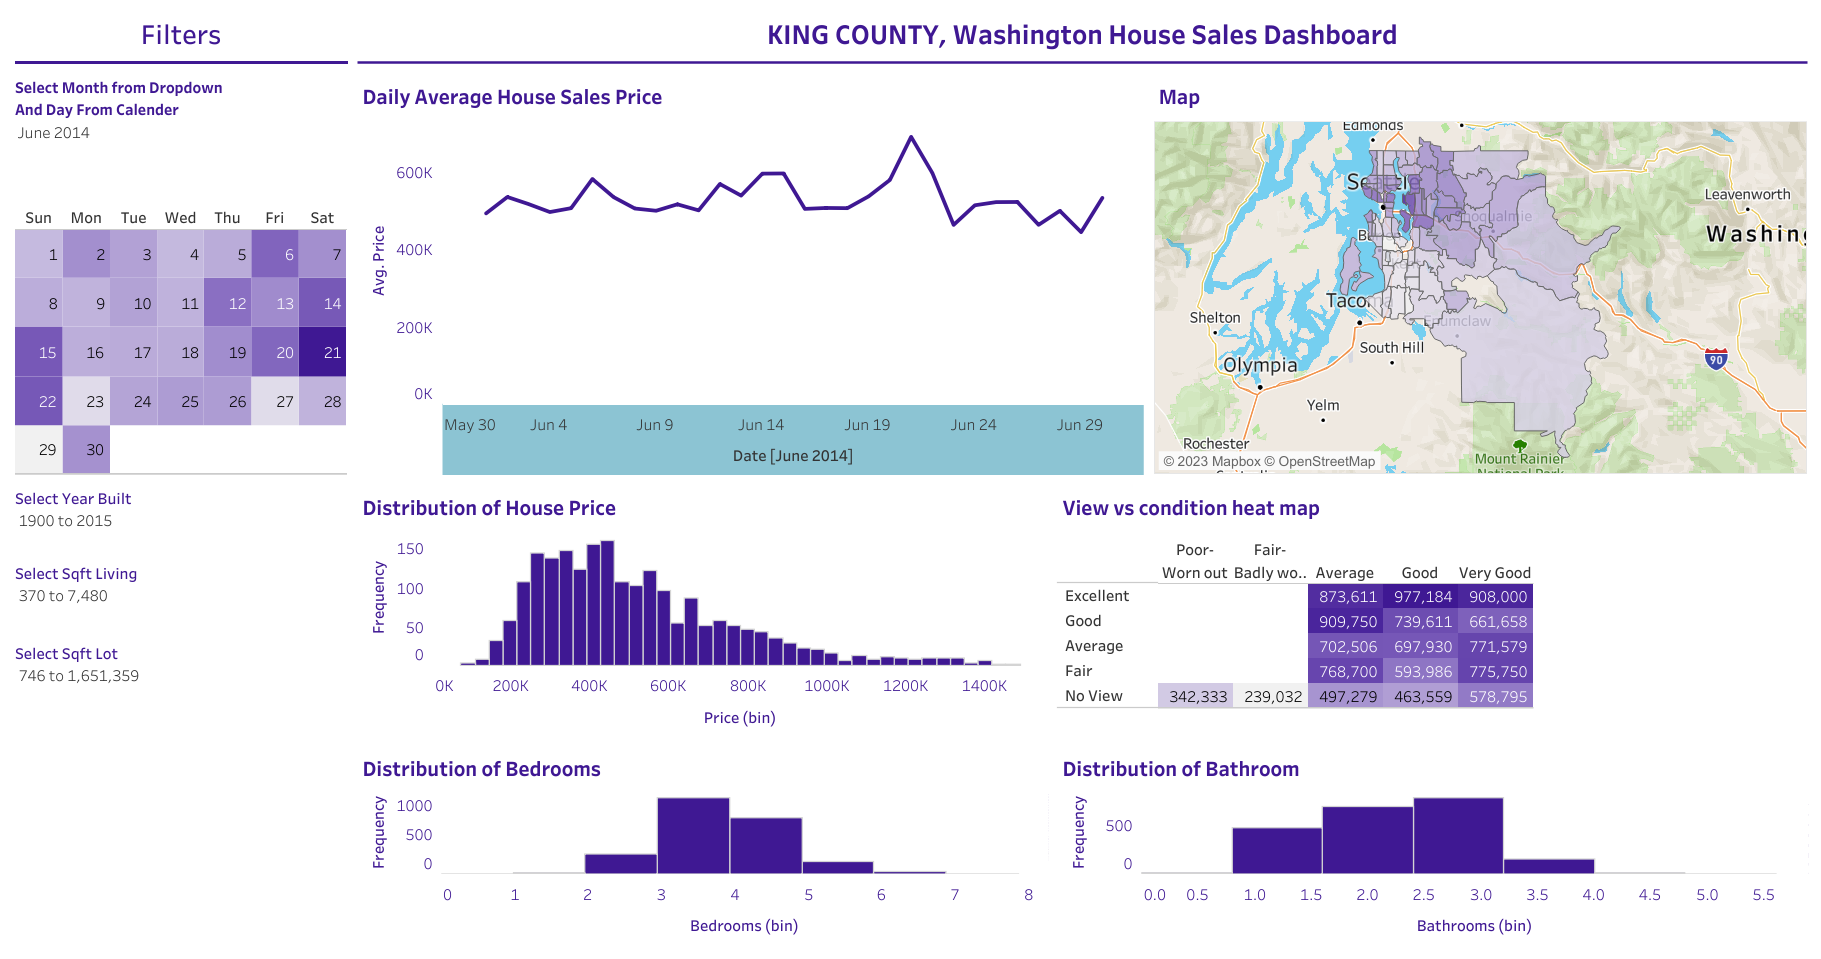

The dashboard page shown, as its layout file describes it:
{"tool":"tableau","page":{"name":"KING COUNTY, House Sales ","canvas":[1000,1000],"units":"permille","ordinal":0},"visuals":[{"type":"text","box":[5.9,10.4,187.9,48.2]},{"type":"text","box":[193.7,10.4,800.4,48.2]},{"type":"blank","box":[5.9,58.6,187.9,13]},{"type":"blank","box":[193.7,58.6,800.4,13]},{"type":"filter","title":"calender","param":"[federated.12fj5m60y4jobp13kst8m0gve69t].[my:date:ok]","box":[5.9,71.6,187.9,135.4]},{"type":"worksheet","title":"Line Chart","mark":"Automatic","rows":["price"],"cols":["date"],"box":[193.7,71.6,466.3,428.4]},{"type":"worksheet","title":"map","mark":"Automatic","box":[660.1,71.6,334.1,428.4]},{"type":"worksheet","title":"calender","mark":"Square","rows":["date"],"cols":["date"],"box":[5.9,207,187.9,293.6]},{"type":"worksheet","title":"Price histogram","mark":"Automatic","rows":["price"],"cols":["Price (bin)"],"box":[193.7,500,383.6,272.6]},{"type":"worksheet","title":"Heatsheet","mark":"Square","rows":["view"],"cols":["condition"],"box":[577.4,500,416.8,272.6]},{"type":"filter","title":"calender","param":"[federated.12fj5m60y4jobp13kst8m0gve69t].[none:yr_built:qk]","box":[5.9,500.6,187.9,78.1]},{"type":"filter","title":"calender","param":"[federated.12fj5m60y4jobp13kst8m0gve69t].[none:sqft_living:qk]","box":[5.9,578.7,187.9,83.3]},{"type":"filter","title":"calender","param":"[federated.12fj5m60y4jobp13kst8m0gve69t].[none:sqft_lot:qk]","box":[5.9,662.1,187.9,82]},{"type":"worksheet","title":"Bedrooms","mark":"Automatic","rows":["bedrooms"],"cols":["Bedrooms (bin)"],"box":[193.7,772.6,383.6,217]},{"type":"worksheet","title":"Bathroom","mark":"Automatic","rows":["bathrooms"],"cols":["Bathrooms (bin)"],"box":[577.4,772.6,416.8,217]}]}

Visuals, with their boxes on the dashboard's canvas, which has no fixed pixel size, in thousandths of its width and height (x1, y1, x2, y2). These are canvas units, not pixel positions in the 1821x959 screenshot, which may show the page scaled, cropped or inside an application window:
text: (x1=6, y1=10, x2=194, y2=59)
text: (x1=194, y1=10, x2=994, y2=59)
blank: (x1=6, y1=59, x2=194, y2=72)
blank: (x1=194, y1=59, x2=994, y2=72)
"calender" filter: (x1=6, y1=72, x2=194, y2=207)
"Line Chart" worksheet: (x1=194, y1=72, x2=660, y2=500)
"map" worksheet: (x1=660, y1=72, x2=994, y2=500)
"calender" worksheet (Square marks): (x1=6, y1=207, x2=194, y2=501)
"Price histogram" worksheet: (x1=194, y1=500, x2=577, y2=773)
"Heatsheet" worksheet (Square marks): (x1=577, y1=500, x2=994, y2=773)
"calender" filter: (x1=6, y1=501, x2=194, y2=579)
"calender" filter: (x1=6, y1=579, x2=194, y2=662)
"calender" filter: (x1=6, y1=662, x2=194, y2=744)
"Bedrooms" worksheet: (x1=194, y1=773, x2=577, y2=990)
"Bathroom" worksheet: (x1=577, y1=773, x2=994, y2=990)
